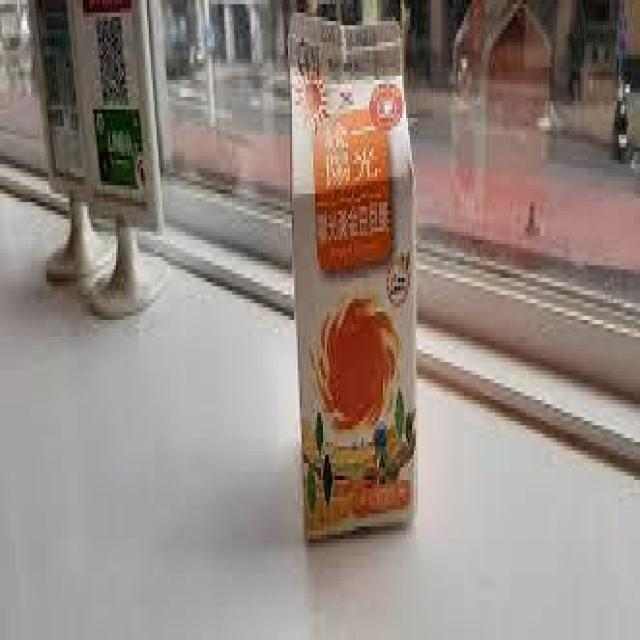TongYi_SoyMilk: (290, 15, 415, 532)
